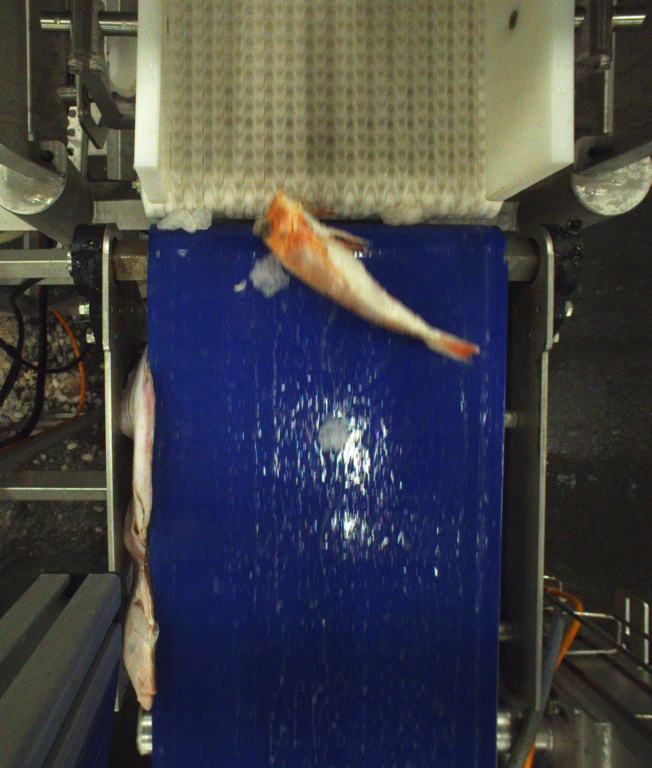GUU: (255, 186, 481, 365)
